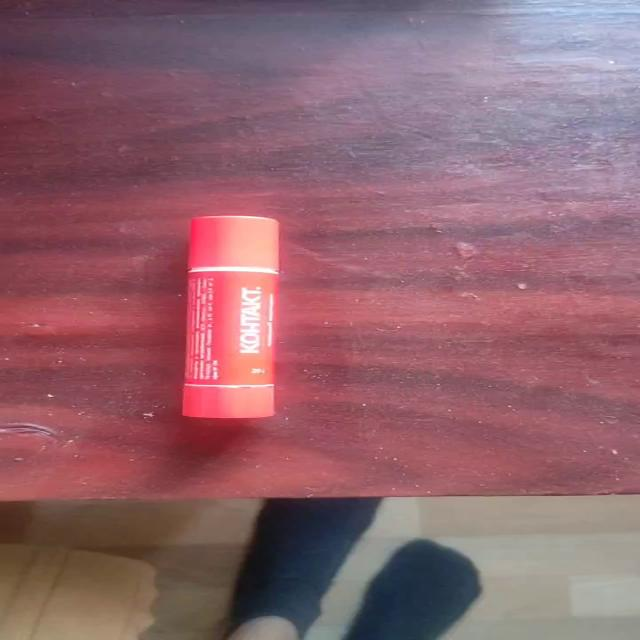glue: (179, 214, 281, 419)
